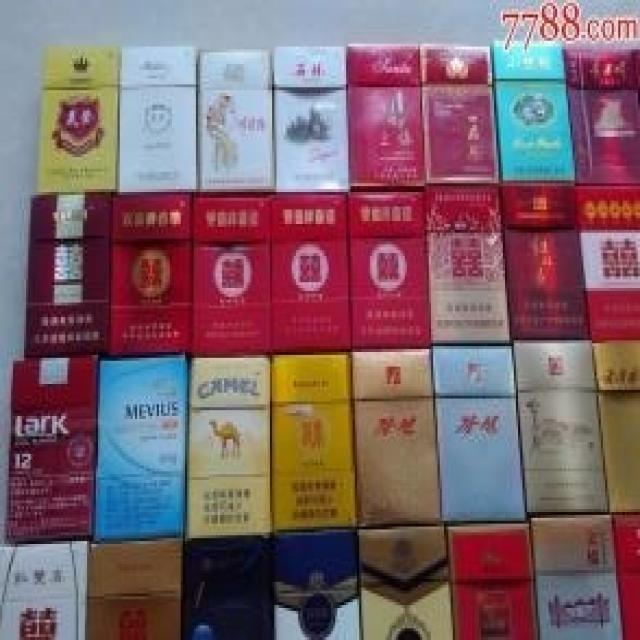box: (94, 355, 189, 541), (7, 355, 102, 541), (512, 340, 610, 515), (431, 343, 527, 521), (350, 346, 442, 527), (185, 355, 274, 538), (270, 352, 359, 532), (499, 180, 590, 343), (24, 192, 111, 358), (111, 189, 196, 352), (424, 183, 509, 346), (348, 186, 431, 352), (270, 192, 350, 355), (194, 189, 270, 355), (37, 44, 120, 195), (115, 44, 198, 192), (527, 515, 623, 640), (492, 41, 577, 180), (346, 44, 424, 189), (272, 44, 348, 192), (359, 521, 453, 640), (448, 521, 540, 640), (198, 49, 274, 192), (420, 47, 499, 183), (85, 538, 185, 640), (577, 180, 640, 340), (566, 47, 640, 180), (274, 527, 361, 640), (181, 535, 274, 640), (0, 541, 89, 640), (592, 337, 640, 512), (610, 512, 640, 640)
